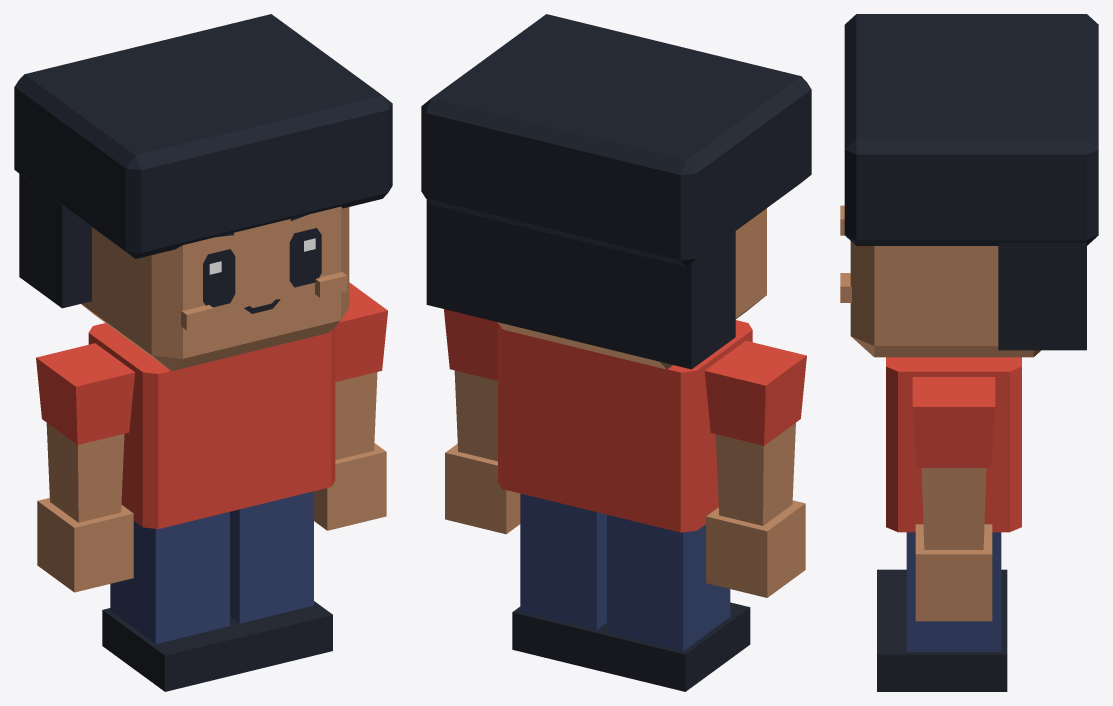
Rendered from townsperson-tshirt.glb.
3 views of the same model, side by side, from view 1: azimuth 30°, elevation 25°; view 2: azimuth 150°, elevation 25°; view 3: azimuth 270°, elevation 25° (orthographic). The views are drawn at different scales.
Parts seen in each view (by area): view 1: hair, body, head, arm_R, leg_R, leg_L, arm_L, hand_R, shoe_R, face, hand_L, shoe_L; view 2: hair, body, arm_R, leg_R, leg_L, hand_R, shoe_R, arm_L, hand_L, head, shoe_L; view 3: hair, head, body, arm_L, shoe_L, hand_L, leg_L, shoe_R, face.
Part boxes in pixels (<box>): hair: <box>14,14,392,308</box>; body: <box>88,323,335,528</box>; head: <box>81,206,349,371</box>; arm_R: <box>36,343,134,522</box>; leg_R: <box>110,512,229,643</box>; leg_L: <box>230,491,313,623</box>; arm_L: <box>335,282,387,459</box>; hand_R: <box>37,498,133,592</box>; shoe_R: <box>102,608,248,691</box>; face: <box>181,213,347,330</box>; hand_L: <box>314,443,386,530</box>; shoe_L: <box>230,601,332,671</box>; hair: <box>421,14,811,369</box>; body: <box>498,320,752,532</box>; arm_R: <box>704,341,806,525</box>; leg_R: <box>607,514,730,650</box>; leg_L: <box>520,493,606,629</box>; hand_R: <box>706,500,805,597</box>; shoe_R: <box>599,602,750,691</box>; arm_L: <box>444,309,497,461</box>; hand_L: <box>445,444,520,534</box>; head: <box>497,208,766,369</box>; shoe_L: <box>512,607,606,670</box>; hair: <box>844,14,1098,350</box>; head: <box>850,241,1040,357</box>; body: <box>886,357,1021,532</box>; arm_L: <box>912,377,995,549</box>; shoe_L: <box>877,612,1007,691</box>; hand_L: <box>915,524,992,621</box>; leg_L: <box>906,532,1001,651</box>; shoe_R: <box>877,569,1007,611</box>; face: <box>840,205,851,302</box>.
Bounding box in the file's own units: 1.26 × 2.14 × 0.875.
